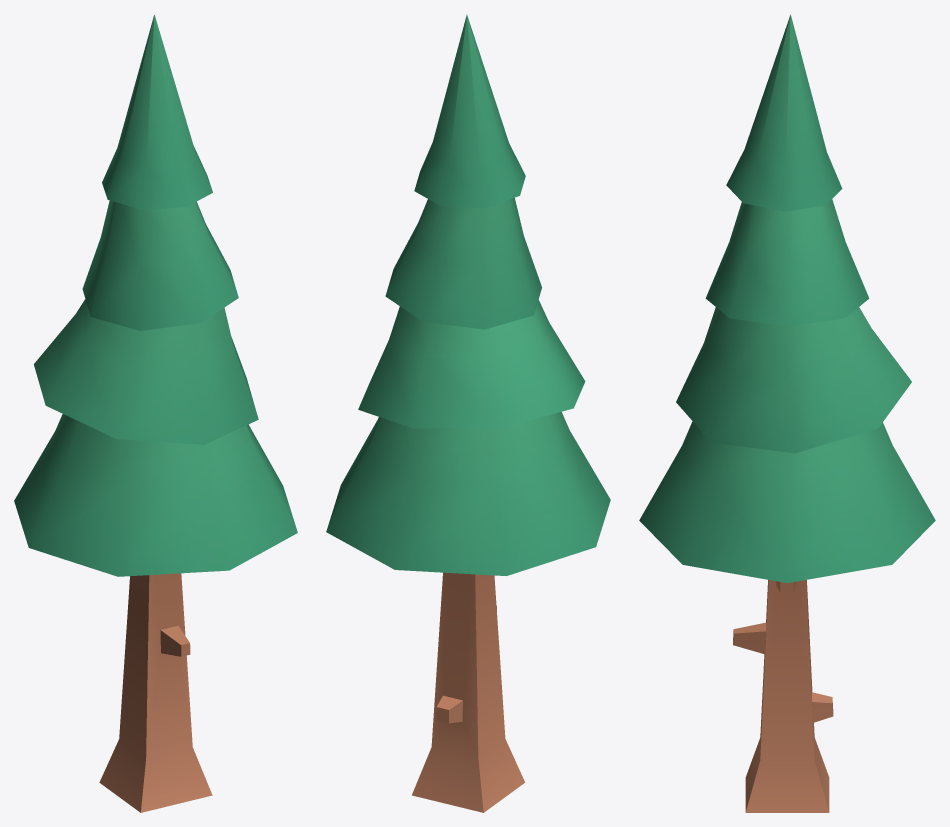
Rendered from tree_high_crooked.glb.
The picture shows the model from 3 angles, left to right: view 1: azimuth 30°, elevation 25°; view 2: azimuth 150°, elevation 25°; view 3: azimuth 270°, elevation 25°; orthographic projection.
Parts seen in each view (by area): view 1: tree-high-crooked; view 2: tree-high-crooked; view 3: tree-high-crooked.
Boxes of the visible parts, x1=… form: tree-high-crooked: x1=14, y1=14, x2=297, y2=812; tree-high-crooked: x1=326, y1=14, x2=610, y2=812; tree-high-crooked: x1=639, y1=14, x2=935, y2=812.
Bounding box in the file's own units: 1.02 × 2.97 × 1.02.
Materials: 1 (1 with a texture image).
